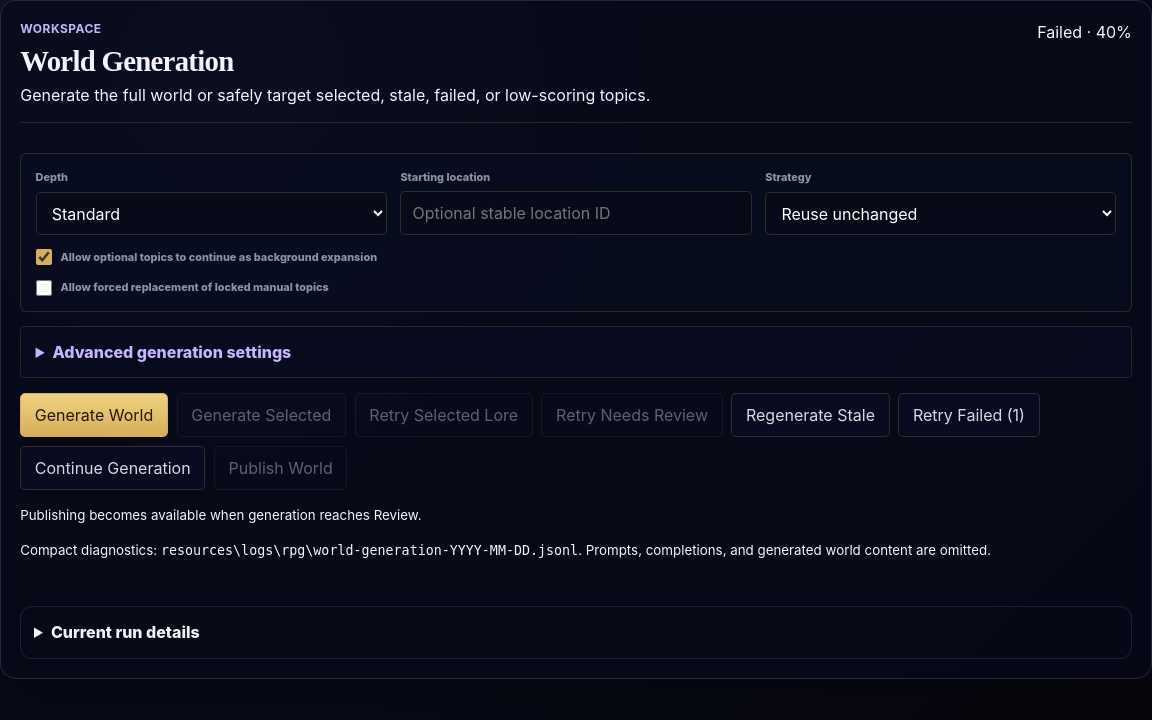
Test: RpgWorldGenerationPanel failed-topic retry guards › keeps the failed run resumable and explains a retryable database outage
Click the button "Retry Failed (1)" at (969, 415), box [898,393,1040,437]
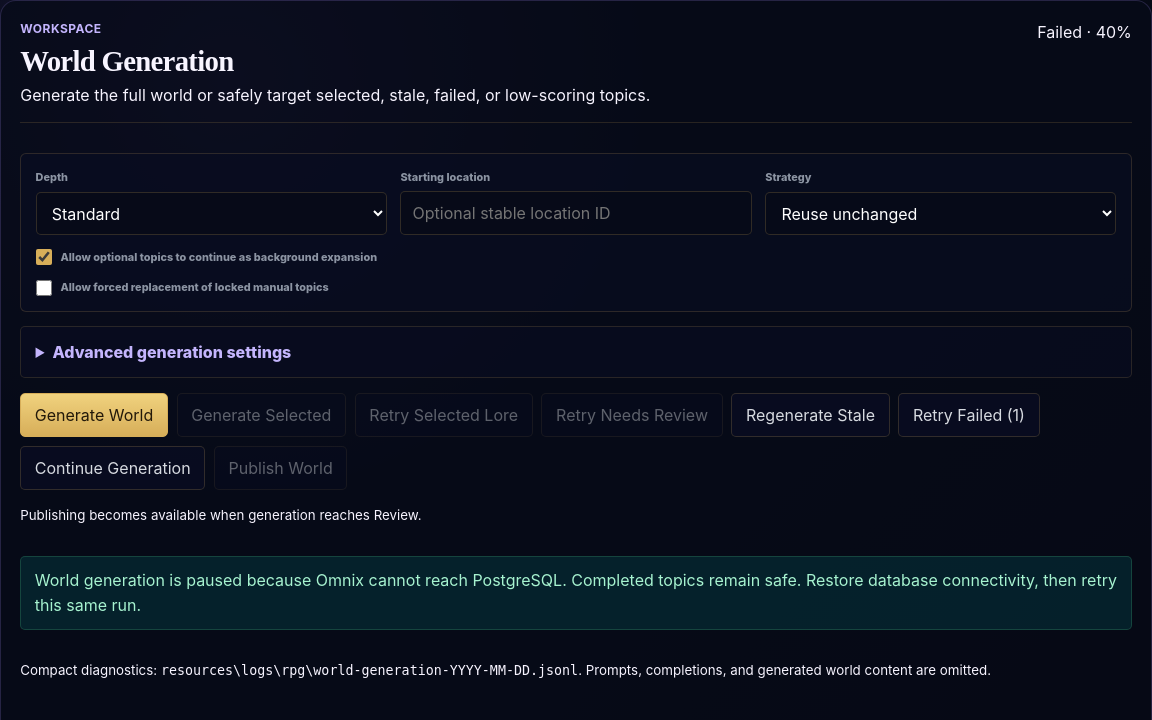
Result: the text "cannot reach PostgreSQL" is shown at [35,570,1117,615]
